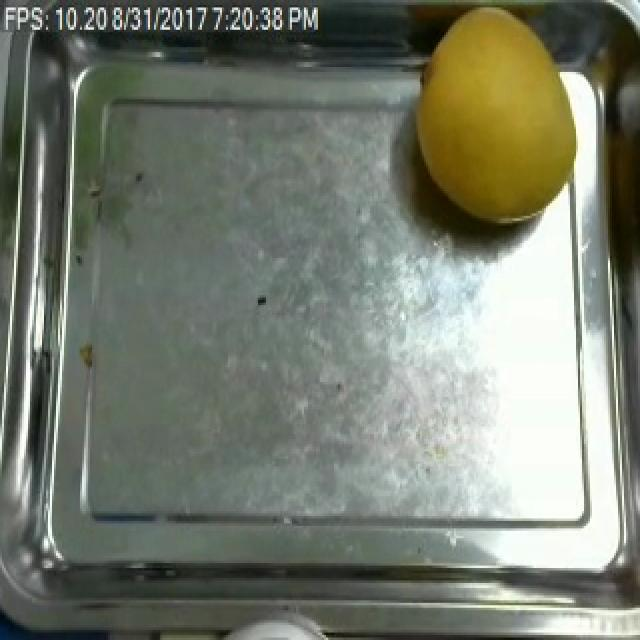fruit: (406, 3, 588, 238)
